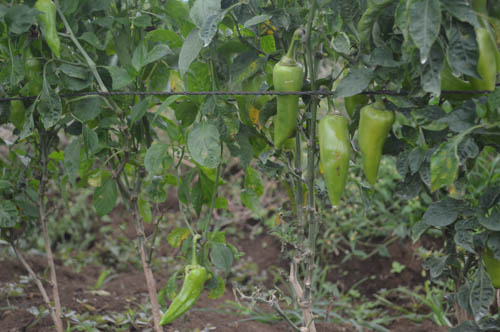ChiliPepper: (318, 118, 354, 214), (154, 266, 209, 328), (356, 109, 396, 189), (268, 67, 304, 149), (33, 3, 66, 58), (475, 34, 499, 95)
